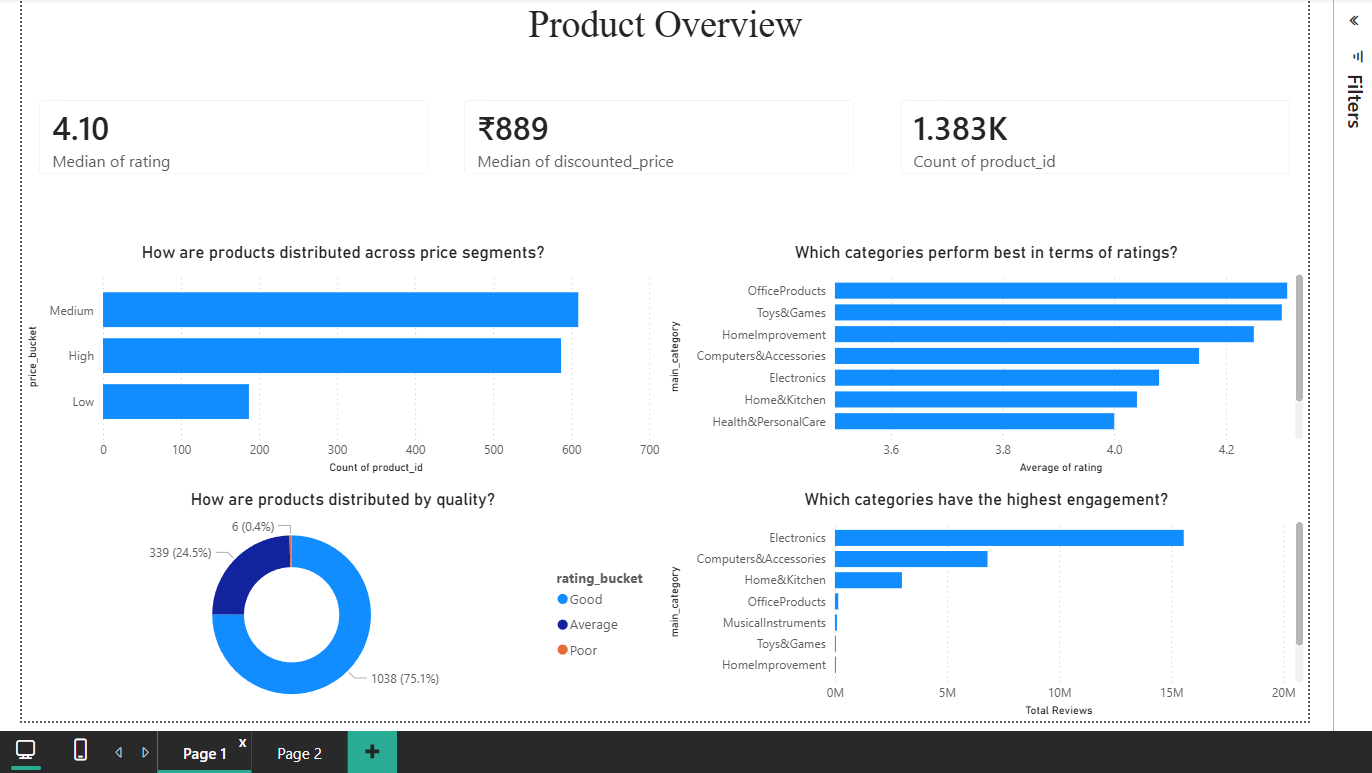

The dashboard page shown, as its layout file describes it:
{"tool":"powerbi","page":{"name":"Page 1","canvas":[1280,720],"ordinal":0},"visuals":[{"type":"cardVisual","fields":{"Data":["Median(project - Copy2.rating)"]},"box":[0,85.1,422.6,108.4],"z":0},{"type":"cardVisual","fields":{"Data":["Median(project - Copy2.discounted_price)"]},"box":[422.6,85.1,422.6,108.4],"z":1000},{"type":"cardVisual","fields":{"Data":["CountNonNull(project - Copy2.product_id)"]},"box":[857.6,85.1,422.6,108.4],"z":2000},{"type":"barChart","title":"How are products distributed across price segments?","fields":{"Y":["CountNonNull(project - Copy2.product_id)"],"Category":["project - Copy2.price_bucket"]},"box":[0,242.9,639.4,235.6],"z":3000},{"type":"donutChart","title":"How are products distributed by quality?","fields":{"Y":["CountNonNull(project - Copy2.product_id)"],"Category":["project - Copy2.rating_bucket"]},"box":[0,489,639,231],"z":4000},{"type":"barChart","title":"Which categories perform best in terms of ratings?","fields":{"Category":["project - Copy2.main_category"],"Y":["Avg(project - Copy2.rating)"]},"box":[639.4,242.9,640.9,235.6],"z":5000},{"type":"barChart","title":"Which categories have the highest engagement?","fields":{"Category":["project - Copy2.main_category"],"Y":["Sum(project - Copy2.rating_count)"]},"box":[639,489,641,231],"z":6000}]}

Visuals, with their boxes on the page's 1280x720 design canvas (x1, y1, x2, y2). These are canvas units, not pixel positions in the 1372x773 screenshot, which may show the page scaled, cropped or inside an application window:
cardVisual - Median(project - Copy2.rating): Rect(0, 85, 423, 194)
cardVisual - Median(project - Copy2.discounted_price): Rect(423, 85, 845, 194)
cardVisual - CountNonNull(project - Copy2.product_id): Rect(858, 85, 1280, 194)
"How are products distributed across price segments?" barChart: Rect(0, 243, 639, 478)
"How are products distributed by quality?" donutChart: Rect(0, 489, 639, 720)
"Which categories perform best in terms of ratings?" barChart: Rect(639, 243, 1280, 478)
"Which categories have the highest engagement?" barChart: Rect(639, 489, 1280, 720)
